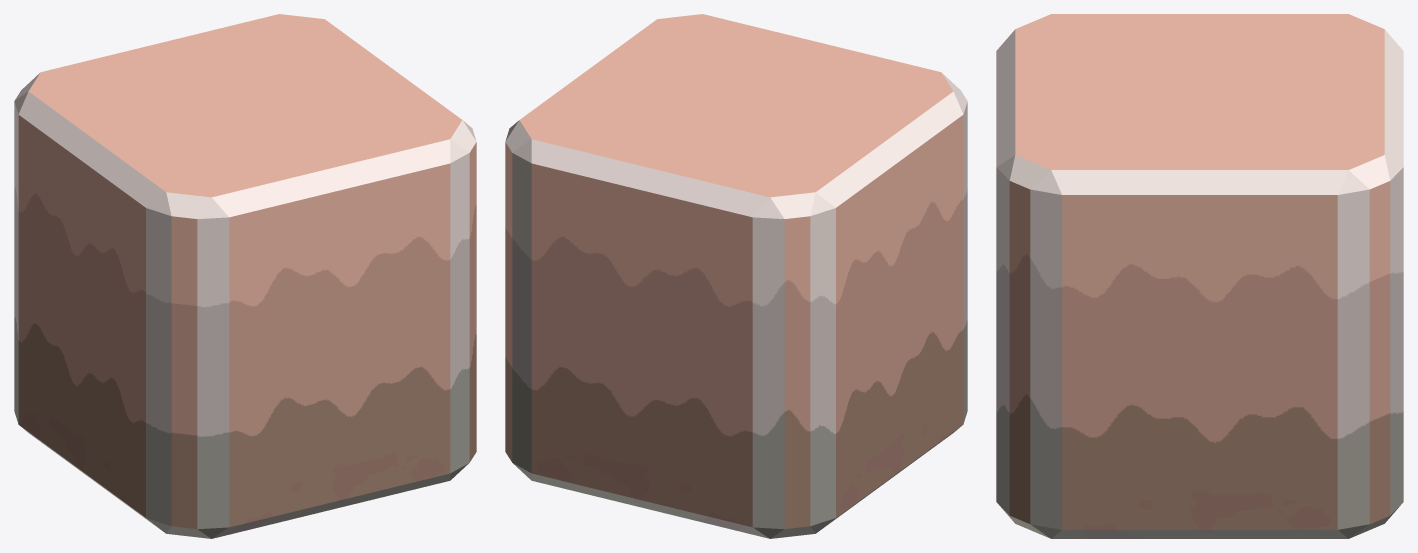
Rendered from R4B_OctColumn_LOD1.glb.
3 views of the same model, side by side, from view 1: azimuth 30°, elevation 25°; view 2: azimuth 150°, elevation 25°; view 3: azimuth 270°, elevation 25° (orthographic). The views are drawn at different scales.
Visible parts, largest first — view 1: R4B_OctColumn_LOD1; view 2: R4B_OctColumn_LOD1; view 3: R4B_OctColumn_LOD1.
Boxes of the visible parts, x1,y1,x2,y2 form: R4B_OctColumn_LOD1: (14,14,476,538); R4B_OctColumn_LOD1: (505,14,967,538); R4B_OctColumn_LOD1: (996,14,1403,538).
Size of the model in its own units: 0.52 by 0.52 by 0.52.
Materials: 2 (2 with a texture image).
